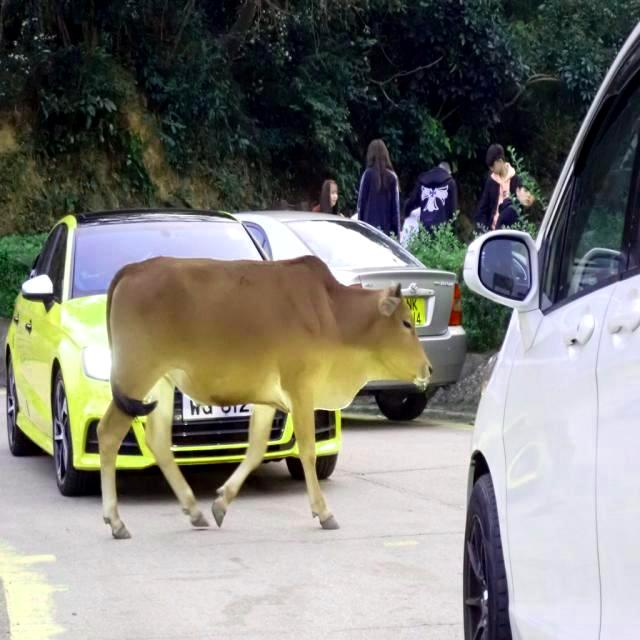COW: (98, 256, 430, 539)
